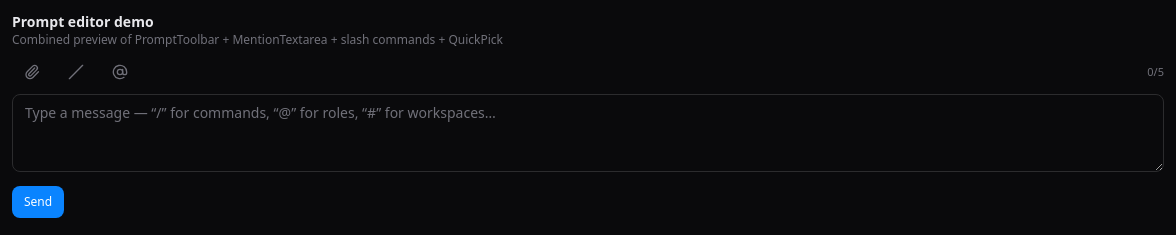
Scenario: PromptEditorDemo › the mention launcher inserts @ into the textarea
The image size is (1176, 235).
Step 1. Click the button with test id "prompt-toolbar-mention" → click(120, 72), box [100,56,140,88]
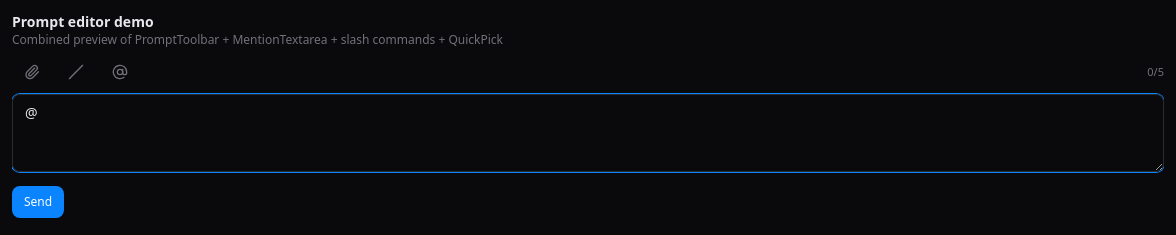
Expected: the text box with test id "mention-input" holds "@", [12,94,1164,172]
